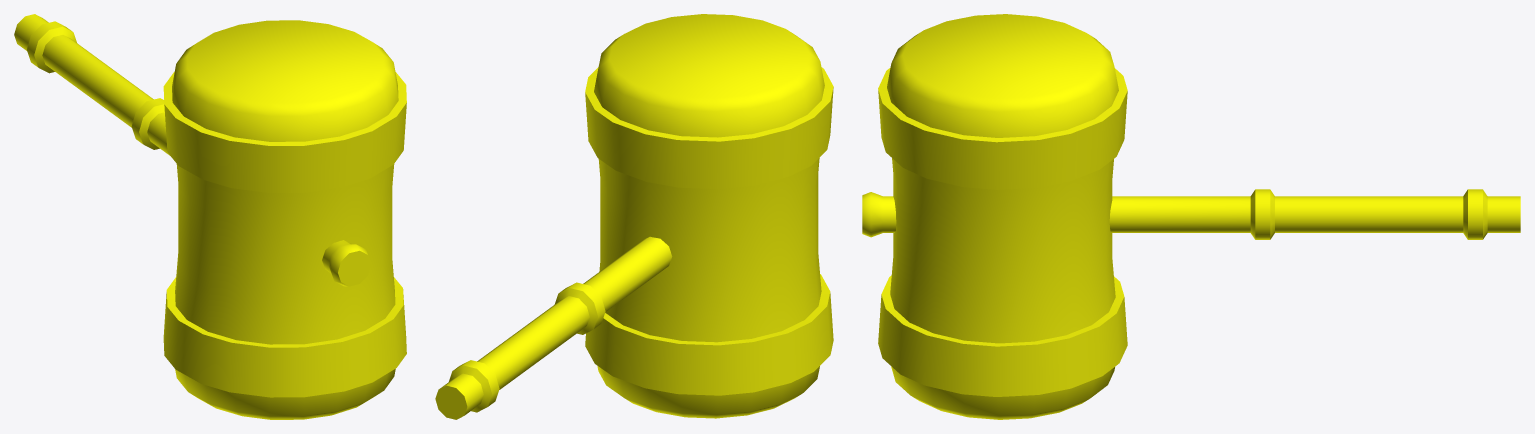
The model's file is weapon_hammer.glb.
3 renders of one model, left to right at view 1: azimuth 30°, elevation 25°; view 2: azimuth 150°, elevation 25°; view 3: azimuth 270°, elevation 25°, orthographic.
Parts seen in each view (by area): view 1: weapon_hammer; view 2: weapon_hammer; view 3: weapon_hammer.
Boxes of the visible parts, bbox=[...] form: weapon_hammer: bbox=[14, 14, 406, 419]; weapon_hammer: bbox=[435, 14, 833, 419]; weapon_hammer: bbox=[862, 14, 1520, 419].
Bounding box in the file's own units: 0.3906 × 0.5551 × 1.03.
Materials: 1 (1 with a texture image).
